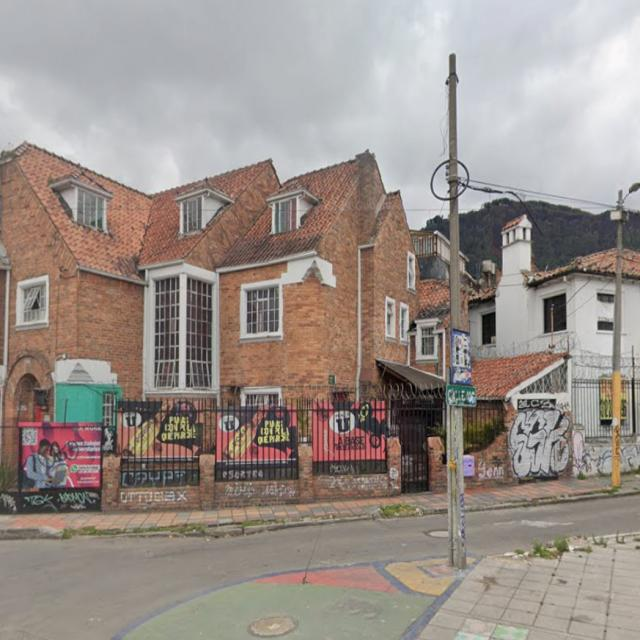fachada: (0, 144, 420, 424), (470, 216, 615, 438), (470, 216, 615, 377)
poste: (448, 54, 461, 329), (612, 190, 623, 487)
